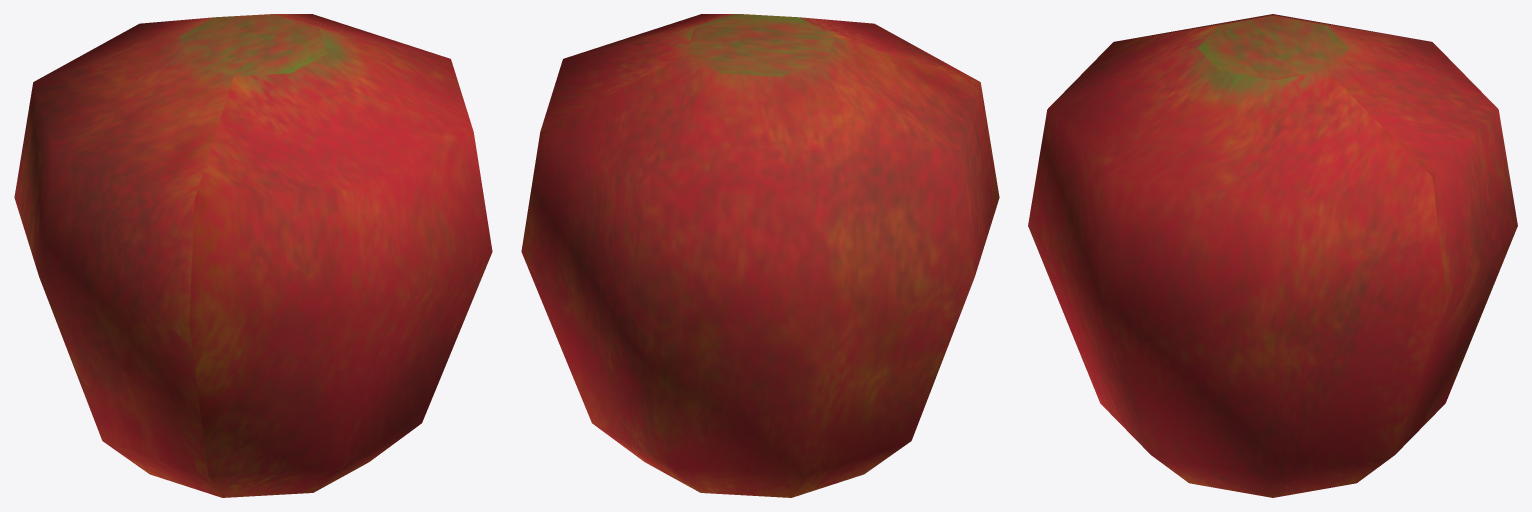
The model's file is AppleLoResDisplayMesh.obj.
3 renders of one model, left to right at view 1: azimuth 30°, elevation 25°; view 2: azimuth 150°, elevation 25°; view 3: azimuth 270°, elevation 25°, orthographic.
Visible parts, largest first — view 1: LoResApple; view 2: LoResApple; view 3: LoResApple.
Part boxes in pixels (bbox=[...]): LoResApple: bbox=[14, 14, 492, 497]; LoResApple: bbox=[521, 14, 999, 497]; LoResApple: bbox=[1028, 14, 1517, 497].
Bounding box in the file's own units: 1 × 0.9 × 1.
Materials: 1 (1 with a texture image).
